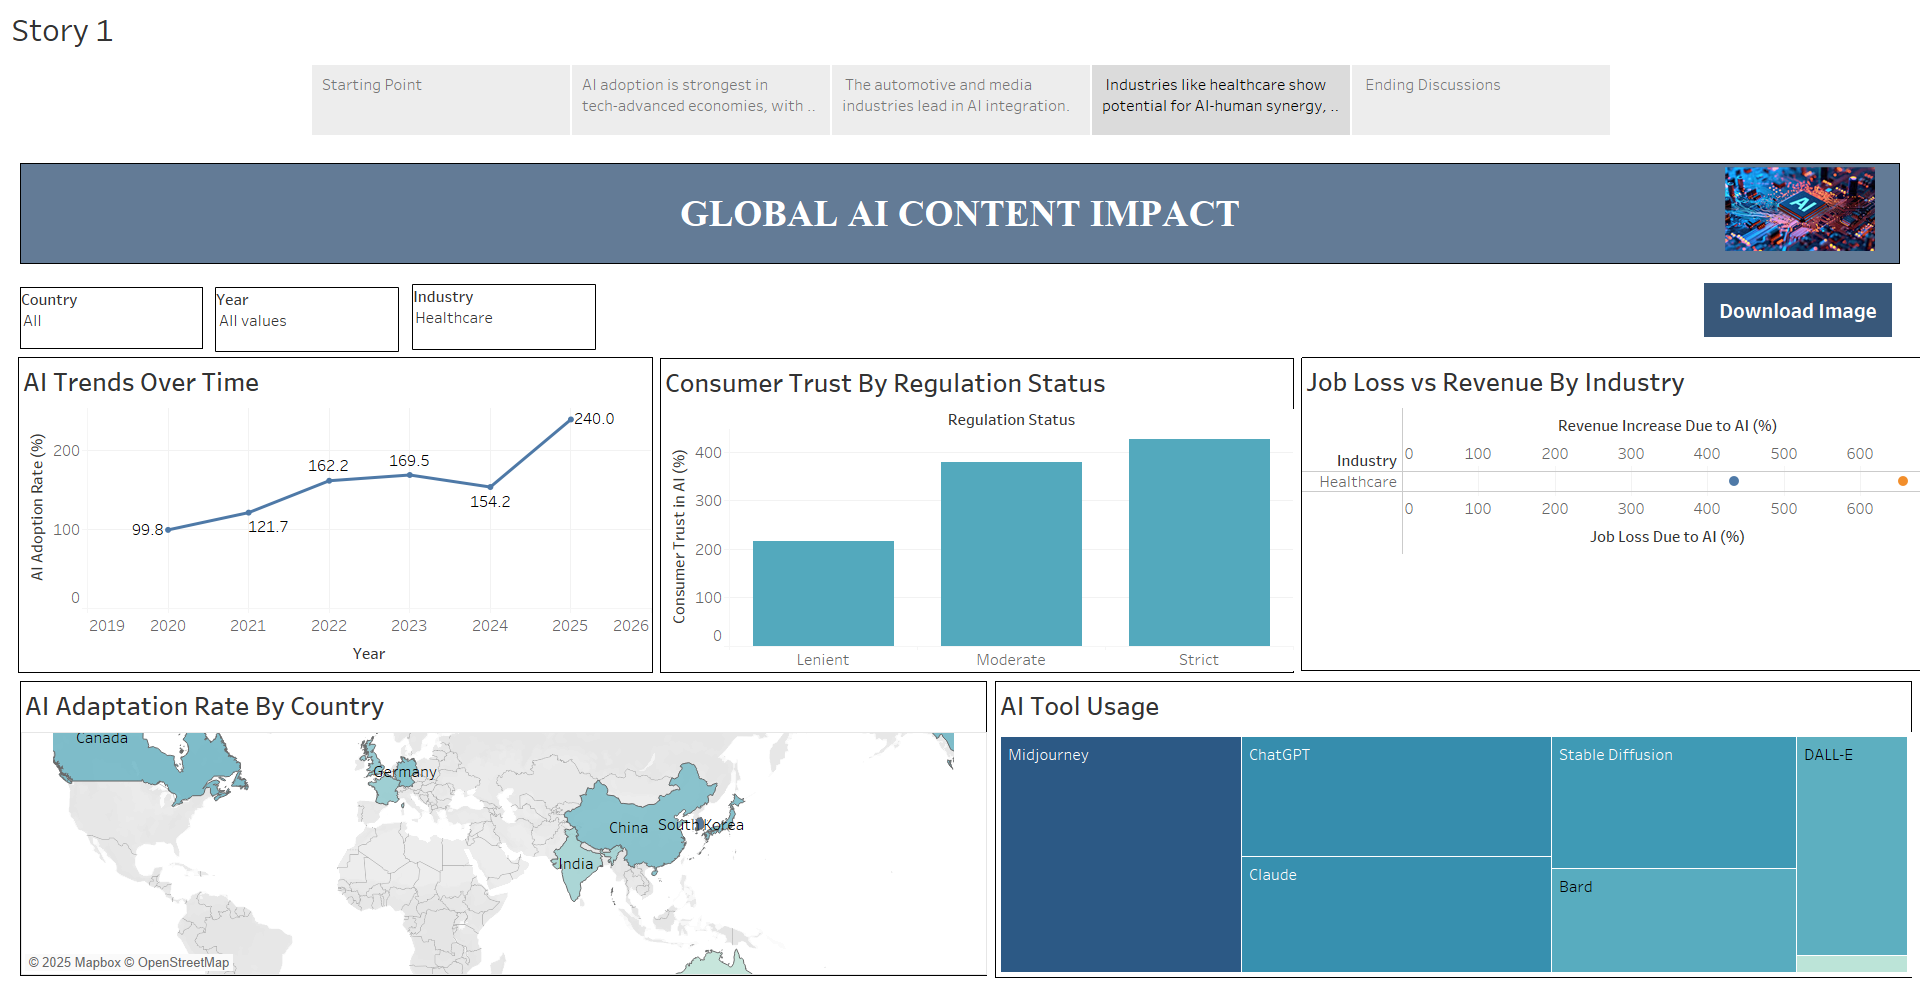

The page's visual inventory and layout, read from the dashboard file:
{"tool":"tableau","page":{"name":"Dashboard 1","canvas":[1000,1000],"units":"permille","ordinal":0},"visuals":[{"type":"title","box":[4.8,10,990.3,136.1]},{"type":"image","param":"Image/AI Image.jpg","box":[901.6,18.7,89.3,101.1]},{"type":"filter","title":"AI trends over time","param":"[federated.0b7zuio0kv5jrt15gwph313jt52r].[none:Industry:nk]","box":[212.4,159.8,96.6,78.7]},{"type":"filter","title":"AI adaptation rate by country","param":"[federated.0b7zuio0kv5jrt15gwph313jt52r].[none:Country:nk]","box":[6,163.6,96.6,73.7]},{"type":"filter","title":"AI trends over time","param":"[federated.0b7zuio0kv5jrt15gwph313jt52r].[none:Year:qk]","box":[108.6,163.6,96.6,77.4]},{"type":"worksheet","title":"AI trends over time","mark":"Automatic","rows":["AI Adoption Rate (%)"],"cols":["Year"],"box":[5.4,247.2,333.1,378.3]},{"type":"worksheet","title":"consumer trust by regulation status","mark":"Automatic","rows":["Consumer Trust in AI (%)"],"cols":["Regulation Status"],"box":[342.2,248.4,333.1,377]},{"type":"worksheet","title":"AI adaptation rate by country","mark":"Automatic","box":[6,635.5,508.2,353.3]},{"type":"worksheet","title":"AI Tool usage","mark":"Automatic","box":[518.4,635.5,481.6,355.8]}]}

Visuals, with their boxes on the dashboard's canvas, which has no fixed pixel size, in thousandths of its width and height (x1, y1, x2, y2). These are canvas units, not pixel positions in the 1920x993 screenshot, which may show the page scaled, cropped or inside an application window:
title: box=[5, 10, 995, 146]
image: box=[902, 19, 991, 120]
"AI trends over time" filter: box=[212, 160, 309, 238]
"AI adaptation rate by country" filter: box=[6, 164, 103, 237]
"AI trends over time" filter: box=[109, 164, 205, 241]
"AI trends over time" worksheet: box=[5, 247, 338, 626]
"consumer trust by regulation status" worksheet: box=[342, 248, 675, 625]
"AI adaptation rate by country" worksheet: box=[6, 636, 514, 989]
"AI Tool usage" worksheet: box=[518, 636, 1000, 991]
